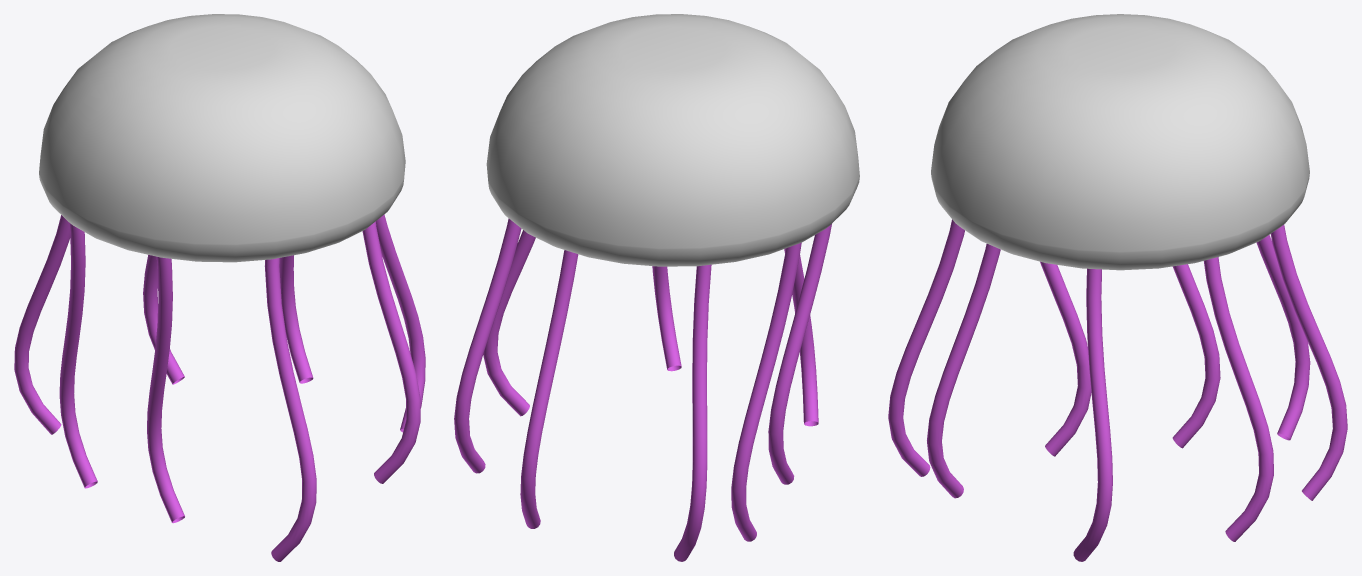
The model's file is jellyfish.fbx.
3 views of the same model, side by side, from view 1: azimuth 30°, elevation 25°; view 2: azimuth 150°, elevation 25°; view 3: azimuth 270°, elevation 25° (orthographic). The views are drawn at different scales.
Parts seen in each view (by area): view 1: Cylinder, BézierCurve.006; view 2: Cylinder, BézierCurve.006; view 3: Cylinder, BézierCurve.006.
Boxes of the visible parts, <box> form: Cylinder: <box>39,14,405,262</box>; BézierCurve.006: <box>14,214,425,561</box>; Cylinder: <box>486,14,859,266</box>; BézierCurve.006: <box>454,218,831,561</box>; Cylinder: <box>931,14,1309,270</box>; BézierCurve.006: <box>888,219,1347,561</box>.
Size of the model in its own units: 222 by 262 by 243.
